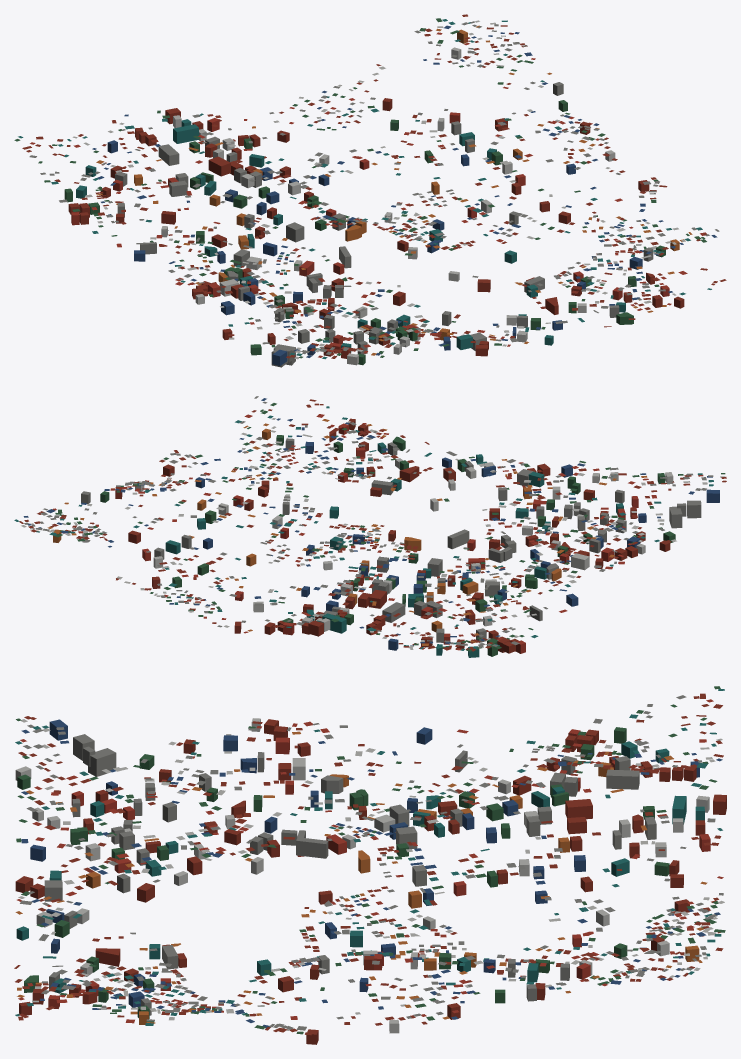
The model's file is far-15-27361-14871.64befceb.glb.
3 views of the same model, one above another, from view 1: azimuth 30°, elevation 25°; view 2: azimuth 150°, elevation 25°; view 3: azimuth 270°, elevation 25° (orthographic). The views are drawn at different scales.
Bounding box in the file's own units: 1189 × 201 × 1181.
